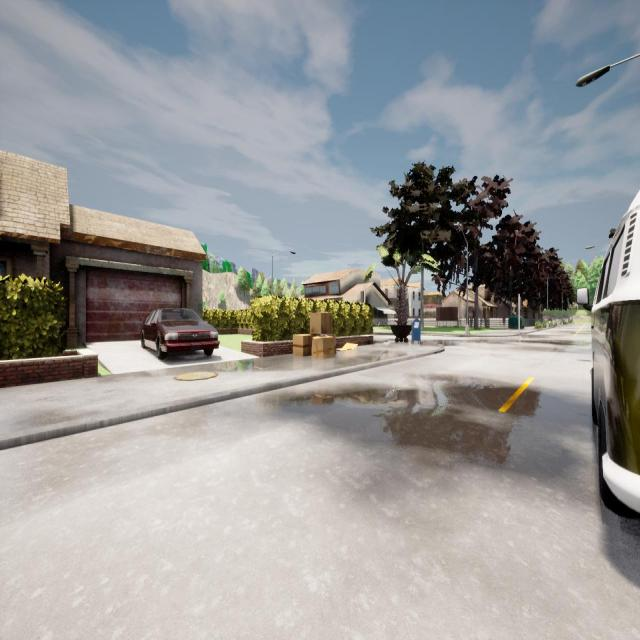Vehicle: (576, 188, 640, 528), (142, 309, 220, 359)
traffic_light: (518, 298, 522, 309), (361, 291, 364, 302)
